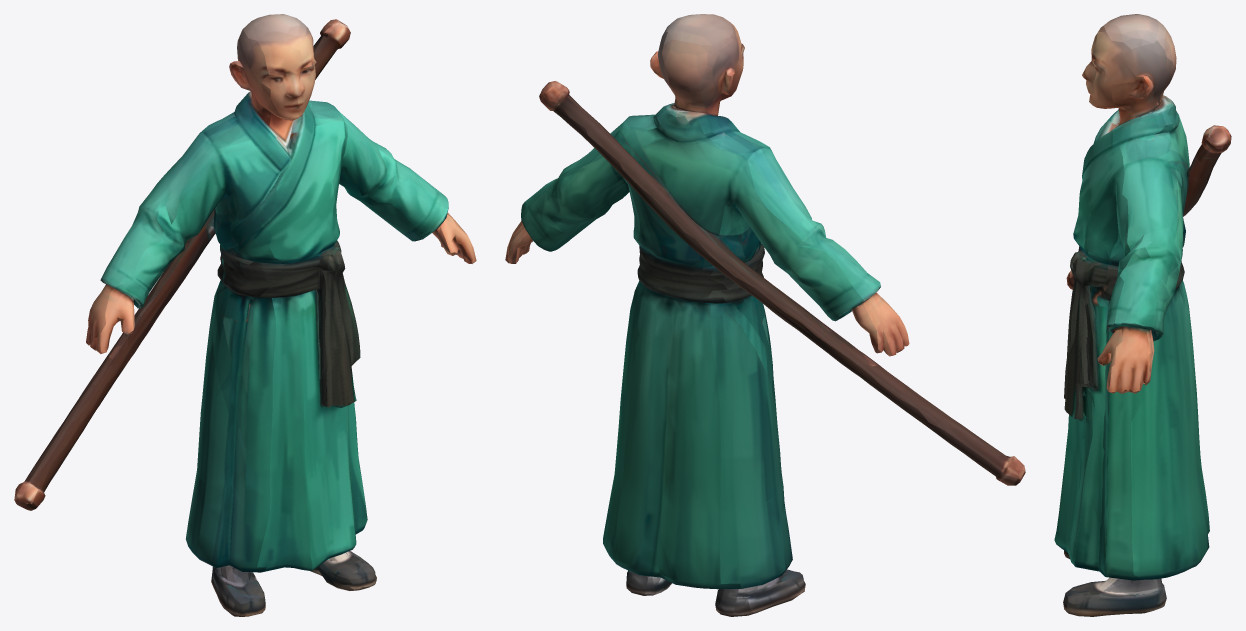
File: yaoshan_glb.glb
3 views of the same model, side by side, from view 1: azimuth 30°, elevation 25°; view 2: azimuth 150°, elevation 25°; view 3: azimuth 270°, elevation 25° (orthographic). The views are drawn at different scales.
Visible parts, largest first — view 1: geometry_0; view 2: geometry_0; view 3: geometry_0.
Boxes of the visible parts, <box> form: geometry_0: <box>14,14,476,616</box>; geometry_0: <box>505,14,1025,616</box>; geometry_0: <box>1054,14,1231,616</box>.
Size of the model in its own units: 1.51 by 1.7 by 0.4851.
Materials: 1 (1 with a texture image).
